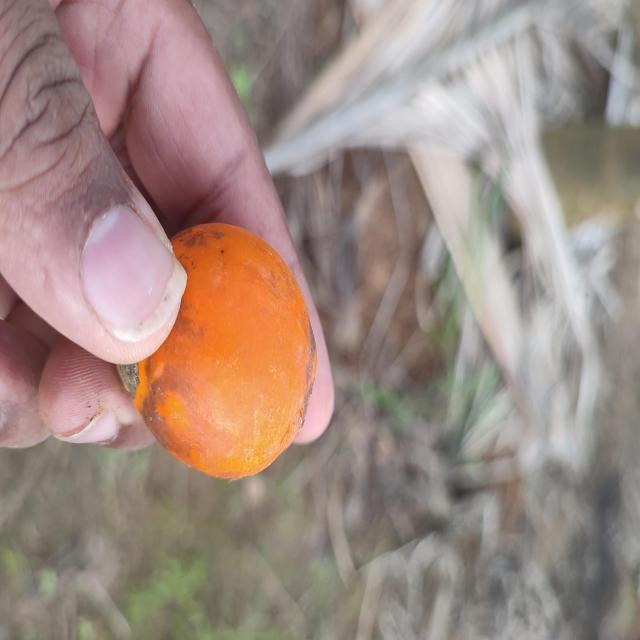good: (119, 223, 317, 482)
